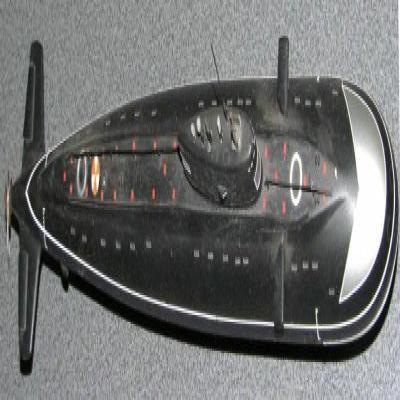other: (15, 38, 400, 362), (10, 40, 46, 375)
